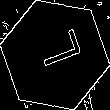L_W: (27, 32, 83, 78)
